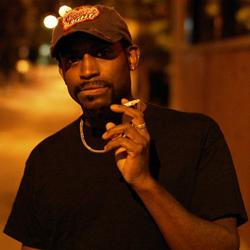smoking: (100, 97, 152, 181)
